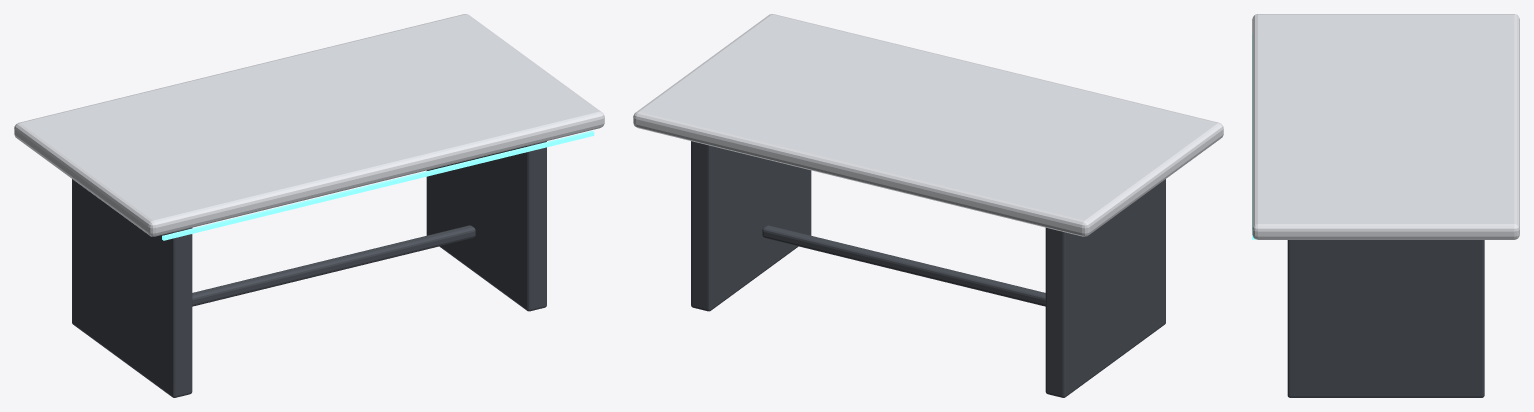
Rendered from dining_table_slab.glb.
3 views of the same model, side by side, from view 1: azimuth 30°, elevation 25°; view 2: azimuth 150°, elevation 25°; view 3: azimuth 270°, elevation 25° (orthographic). The views are drawn at different scales.
Parts seen in each view (by area): view 1: GD_dining_table_slab__m1, GD_dining_table_slab__m0, GD_dining_table_slab__m2; view 2: GD_dining_table_slab__m1, GD_dining_table_slab__m0; view 3: GD_dining_table_slab__m1, GD_dining_table_slab__m0.
Boxes of the visible parts, x1,y1,x2,y2 form: GD_dining_table_slab__m1: [14, 14, 604, 236]; GD_dining_table_slab__m0: [72, 141, 546, 397]; GD_dining_table_slab__m2: [162, 131, 594, 240]; GD_dining_table_slab__m1: [633, 14, 1223, 236]; GD_dining_table_slab__m0: [691, 141, 1165, 397]; GD_dining_table_slab__m1: [1252, 14, 1519, 239]; GD_dining_table_slab__m0: [1287, 240, 1484, 397].
Size of the model in its own units: 1.8 by 0.75 by 0.951.
